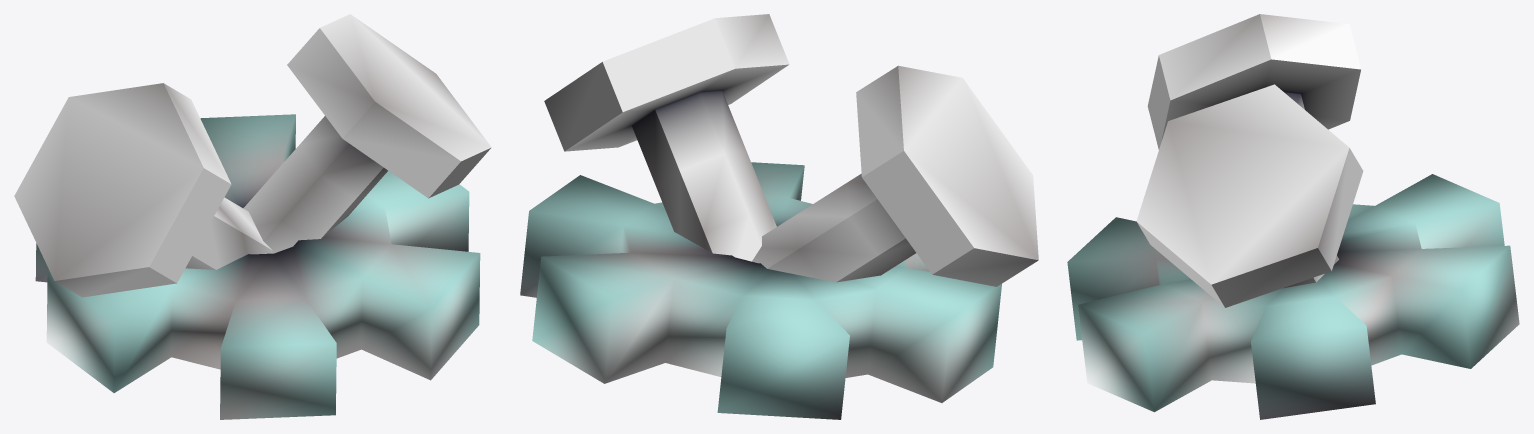
Rendered from girth_mechanism.glb.
The picture shows the model from 3 angles, left to right: view 1: azimuth 30°, elevation 25°; view 2: azimuth 150°, elevation 25°; view 3: azimuth 270°, elevation 25°; orthographic projection. The views are drawn at different scales.
Parts seen in each view (by area): view 1: Cube; view 2: Cube; view 3: Cube.
Part boxes in pixels (left/top/right/bottom): Cube: left=14, top=14, right=491, bottom=419; Cube: left=520, top=14, right=1038, bottom=419; Cube: left=1067, top=14, right=1519, bottom=419.
Size of the model in its own units: 2.27 by 1.51 by 2.08.
